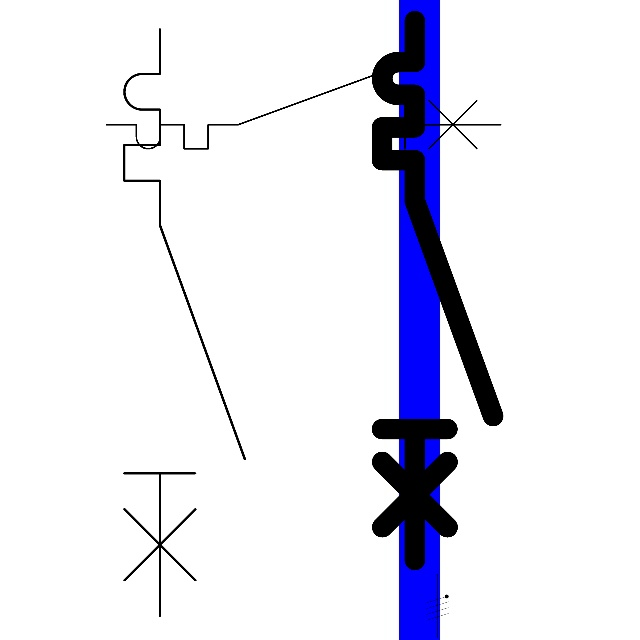interruptor_termomagnetico: (109, 14, 260, 631), (368, 7, 506, 574), (96, 57, 511, 159)
